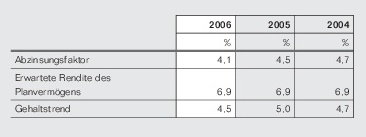table: (0, 0, 366, 137)
